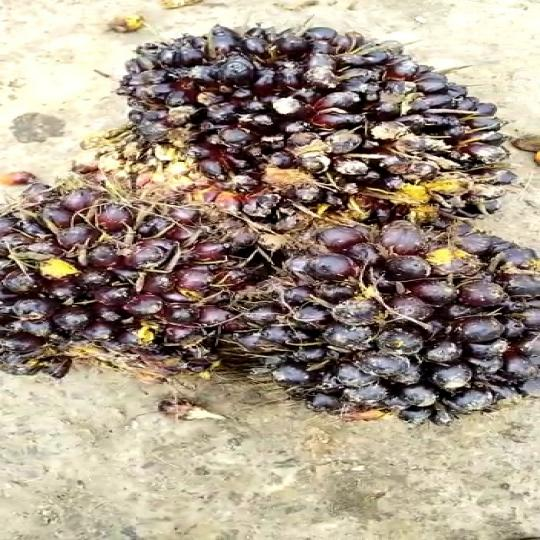mentah: (105, 16, 526, 232), (217, 213, 540, 431), (0, 184, 279, 383)
